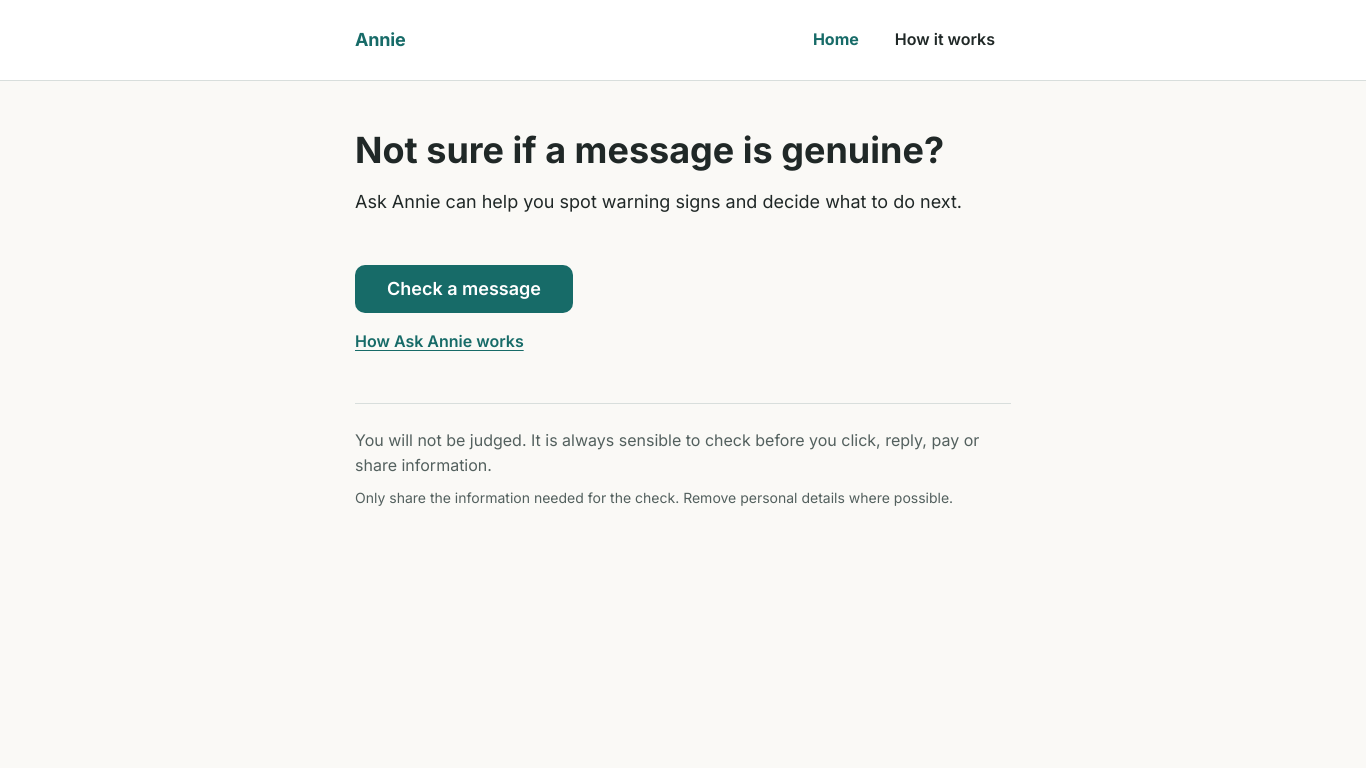
Test case: App › navigates back to the welcome screen from the submit screen
The width and height of the screenshot is (1366, 768).
Click the button "Check a message" at (464, 289), box [355, 265, 573, 313]
(page scrolled)
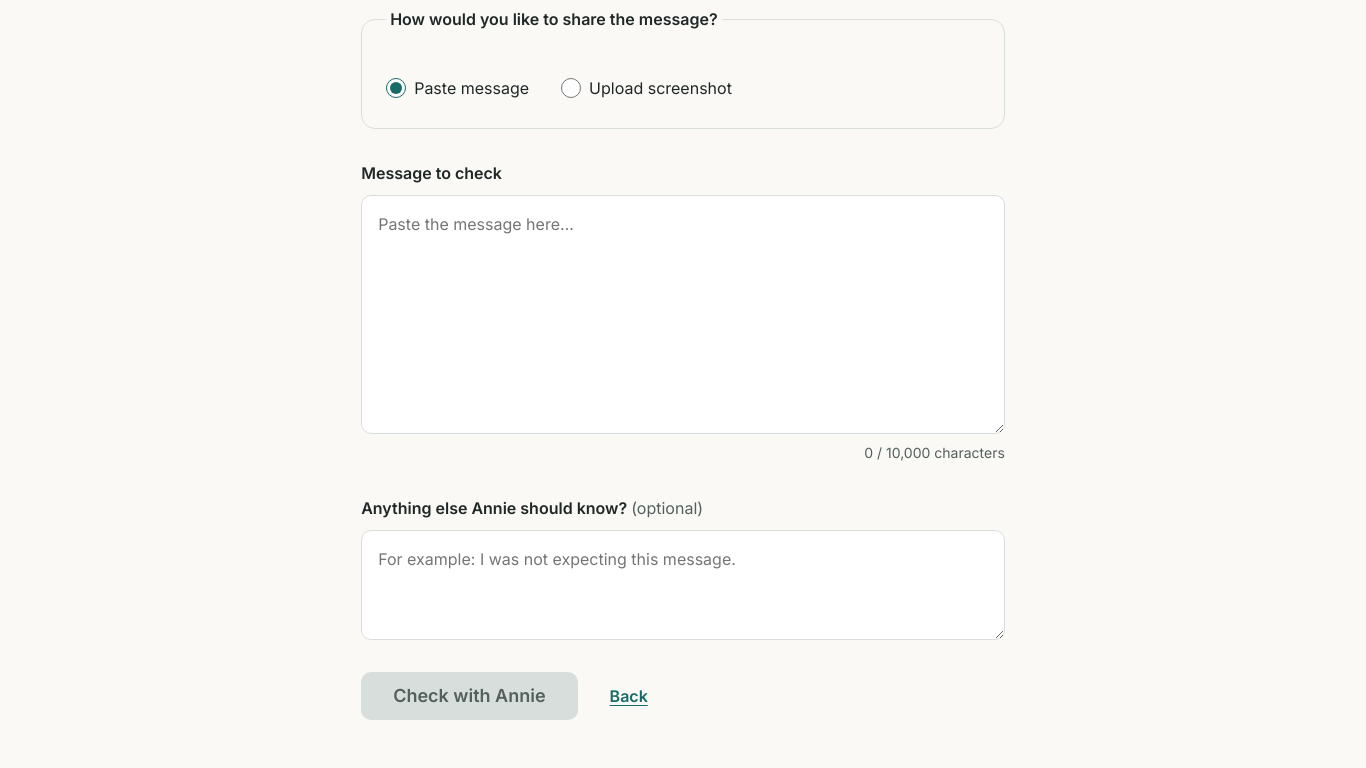
Click the button "Back" at (629, 696), box [594, 672, 664, 720]
(page scrolled)
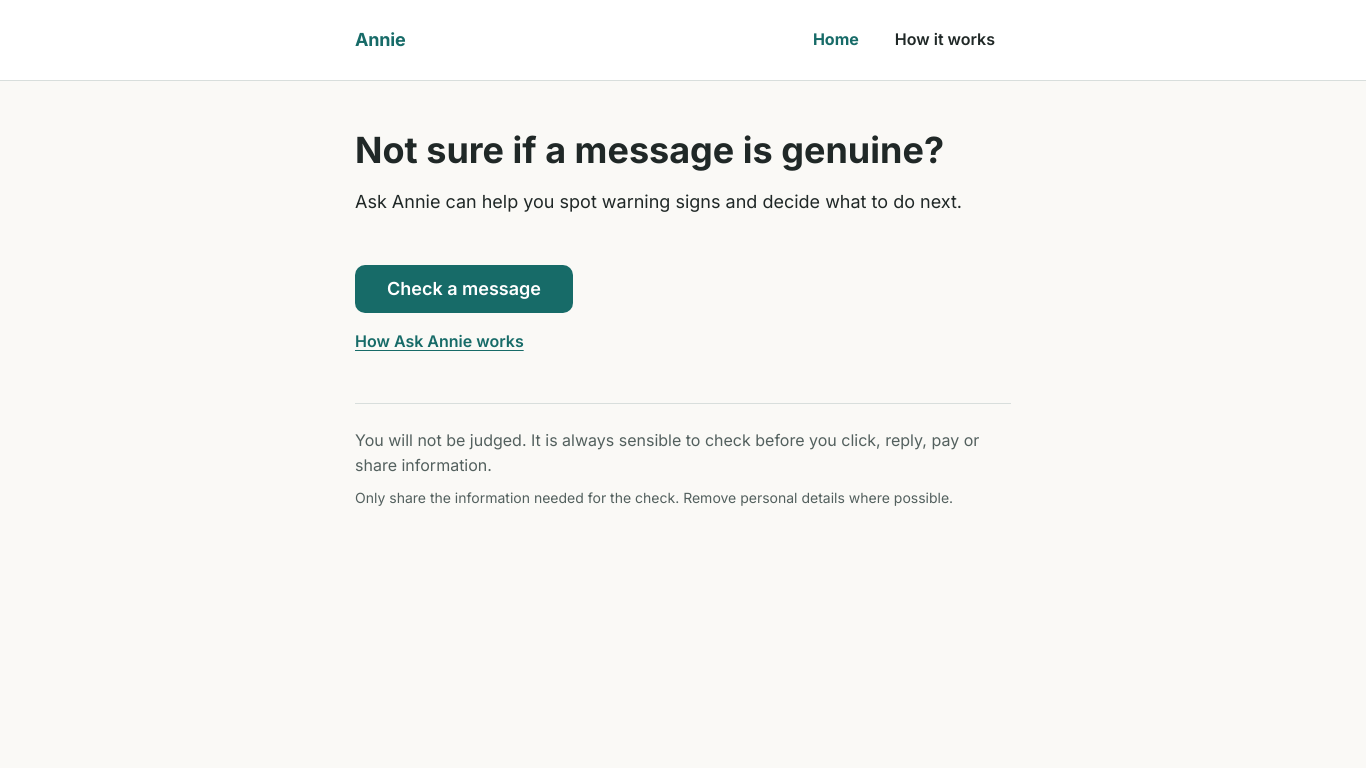
Now the element with test id "screen-welcome" is shown, box [355, 81, 1011, 557]
